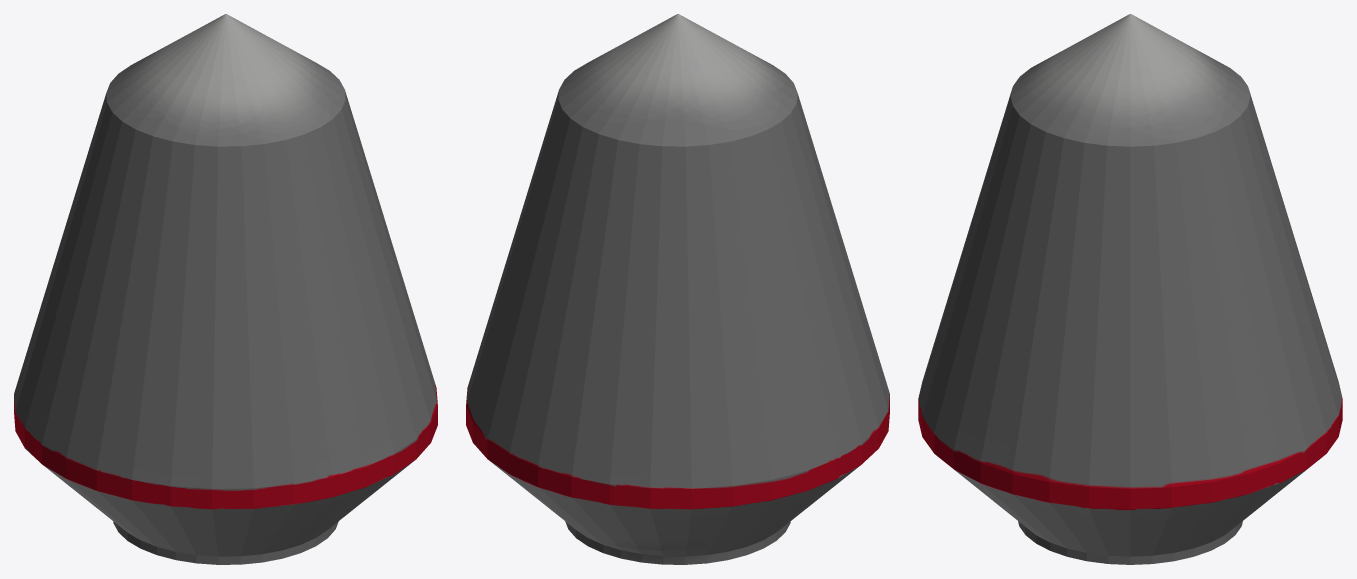
The model's file is rocket.glb.
The picture shows the model from 3 angles, left to right: view 1: azimuth 30°, elevation 25°; view 2: azimuth 150°, elevation 25°; view 3: azimuth 270°, elevation 25°; orthographic projection.
Visible parts, largest first — view 1: Cylinder; view 2: Cylinder; view 3: Cylinder.
Boxes of the visible parts, x1,y1,x2,y2 form: Cylinder: (14, 14, 437, 564); Cylinder: (466, 14, 889, 564); Cylinder: (918, 14, 1342, 564).
Size of the model in its own units: 3.08 by 4.02 by 3.08.
1 material, 1 textured.
